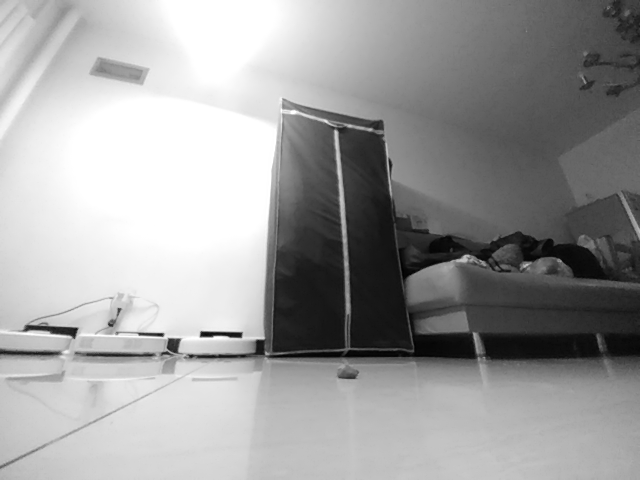pet feces: (335, 360, 361, 381)
